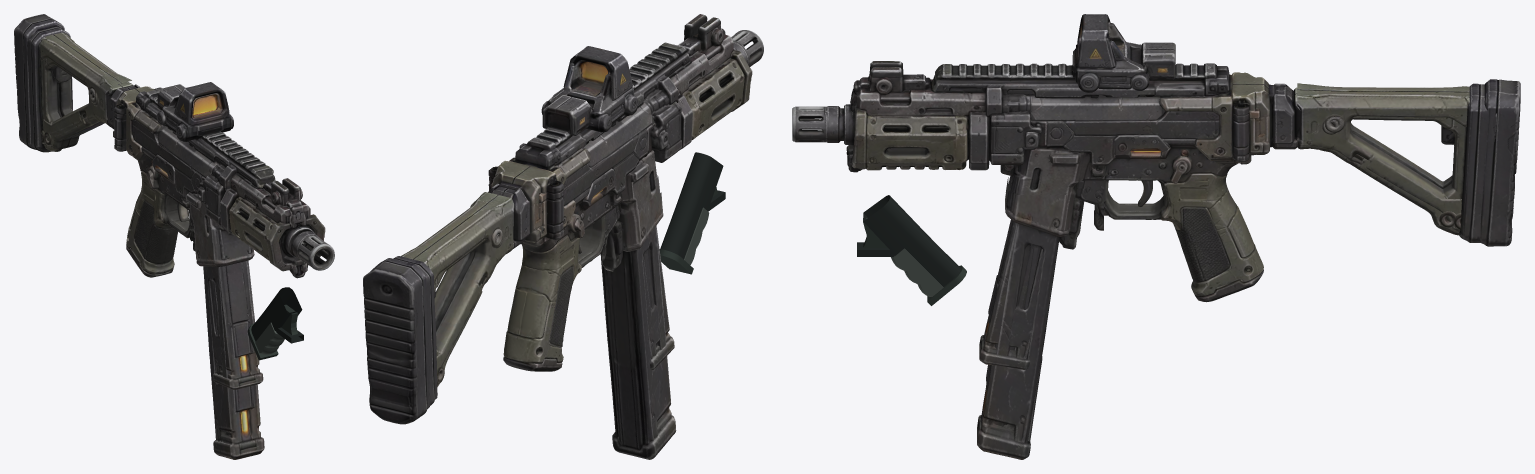
File: smg-v1.glb
The picture shows the model from 3 angles, left to right: view 1: azimuth 30°, elevation 25°; view 2: azimuth 150°, elevation 25°; view 3: azimuth 270°, elevation 25°; orthographic projection. The views are drawn at different scales.
Visible parts, largest first — view 1: weapon-body-mesh, magazine-extended, stock-upgraded, magazine-standard, stock-standard, optic, grip; view 2: weapon-body-mesh, stock-upgraded, magazine-extended, optic, grip, stock-standard, magazine-standard; view 3: weapon-body-mesh, stock-upgraded, magazine-extended, optic, stock-standard, grip, magazine-standard.
Boxes of the visible parts, box(x1,y1,x2,y2) form: weapon-body-mesh: box(108, 84, 334, 278); magazine-extended: box(189, 216, 264, 459); stock-upgraded: box(14, 14, 131, 149); magazine-standard: box(190, 216, 263, 389); stock-standard: box(23, 26, 131, 152); optic: box(143, 82, 243, 158); grip: box(247, 287, 303, 360); weapon-body-mesh: box(488, 14, 763, 371); stock-upgraded: box(363, 192, 514, 424); magazine-extended: box(600, 192, 676, 459); optic: box(533, 46, 652, 153); grip: box(659, 152, 725, 274); stock-standard: box(393, 234, 513, 405); magazine-standard: box(603, 192, 674, 370); weapon-body-mesh: box(792, 61, 1297, 302); stock-upgraded: box(1297, 79, 1520, 246); magazine-extended: box(977, 177, 1103, 459); optic: box(1011, 14, 1208, 92); stock-standard: box(1297, 83, 1496, 242); grip: box(857, 195, 966, 305); magazine-standard: box(979, 177, 1104, 369).
Bounding box in the file's own units: 0.0798 × 0.4562 × 0.6995.
4 materials, 1 textured.
